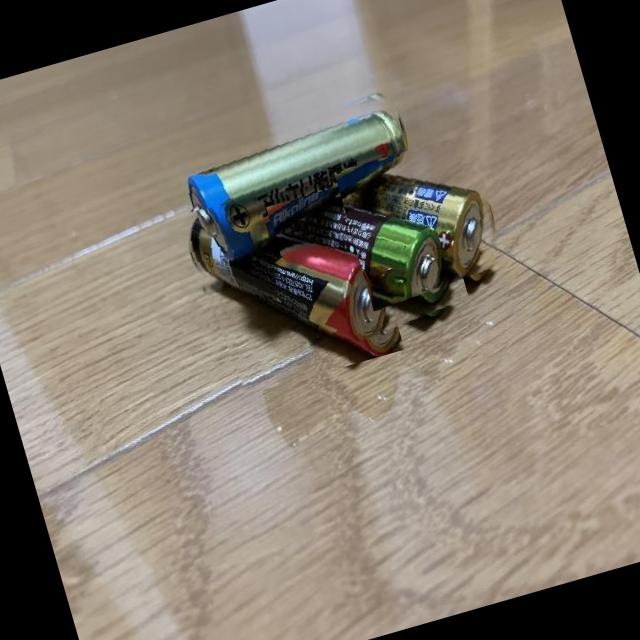Hazard: (176, 164, 404, 399), (167, 73, 426, 270), (266, 160, 474, 360), (334, 131, 516, 312)
